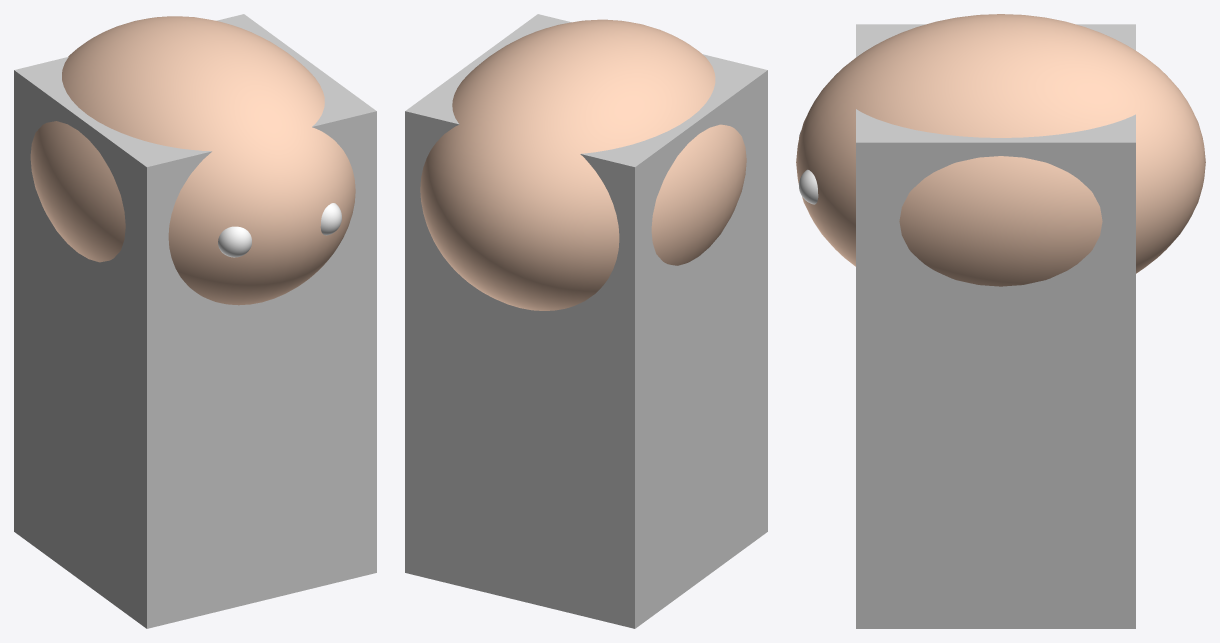
File: Ennemi Battle.fbx
The picture shows the model from 3 angles, left to right: view 1: azimuth 30°, elevation 25°; view 2: azimuth 150°, elevation 25°; view 3: azimuth 270°, elevation 25°; orthographic projection. The views are drawn at different scales.
Visible parts, largest first — view 1: node_id8, node_id5, node_id14, node_id17; view 2: node_id8, node_id5; view 3: node_id8, node_id5.
Boxes of the visible parts, left/top/right/bottom form: node_id8: left=14, top=14, right=376, bottom=628; node_id5: left=30, top=16, right=355, bottom=305; node_id14: left=218, top=226, right=251, bottom=257; node_id17: left=320, top=203, right=341, bottom=235; node_id8: left=405, top=14, right=767, bottom=628; node_id5: left=420, top=19, right=746, bottom=310; node_id8: left=856, top=24, right=1135, bottom=628; node_id5: left=796, top=14, right=1205, bottom=286.
Size of the model in its own units: 0.277 by 0.512 by 0.3525.
6 materials, 1 textured.
